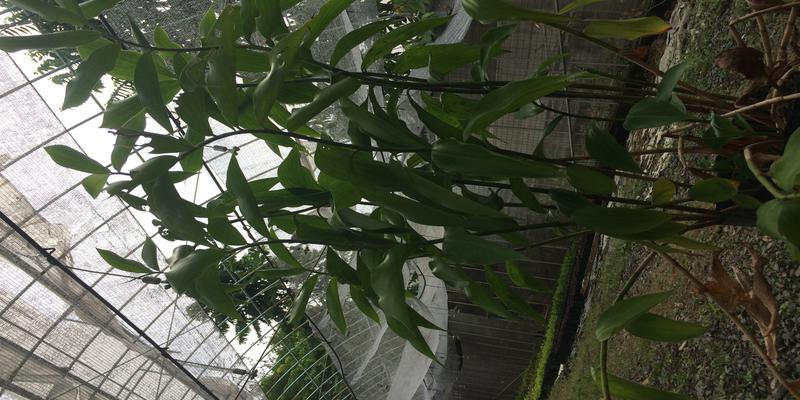Insulin: (59, 5, 767, 258)
